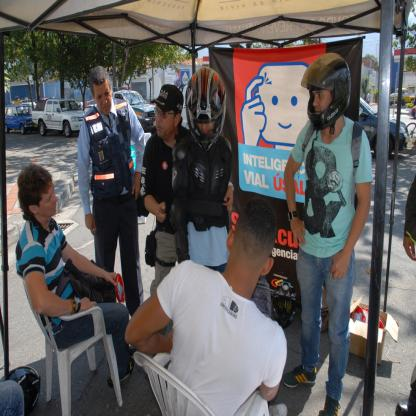Helmet: (305, 52, 354, 138), (186, 66, 226, 157), (274, 282, 301, 330)
